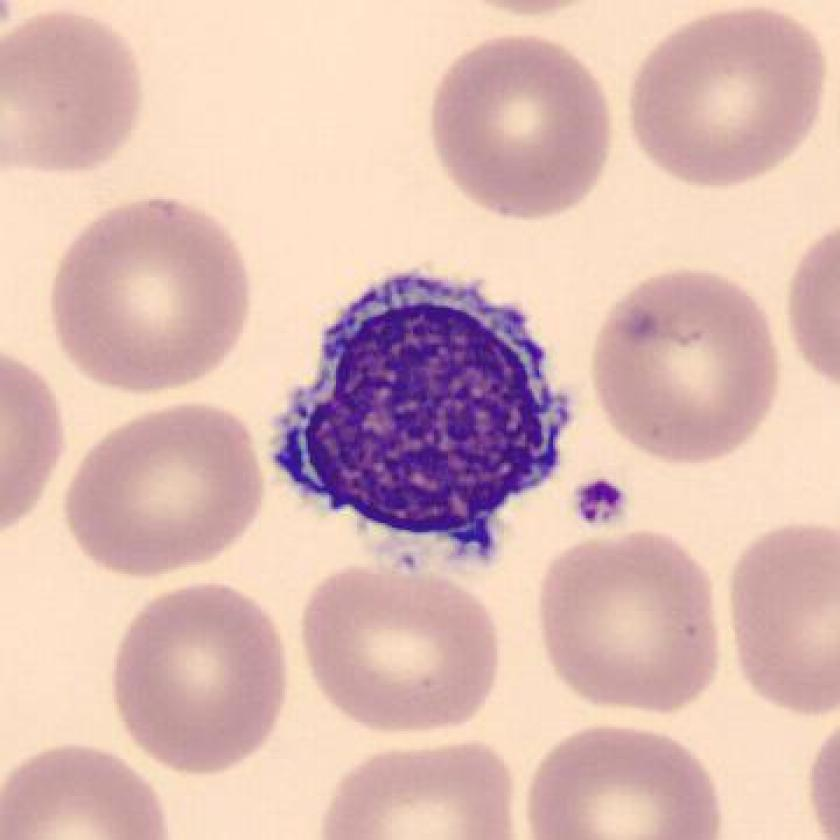lymphocyte: (258, 260, 587, 577)
